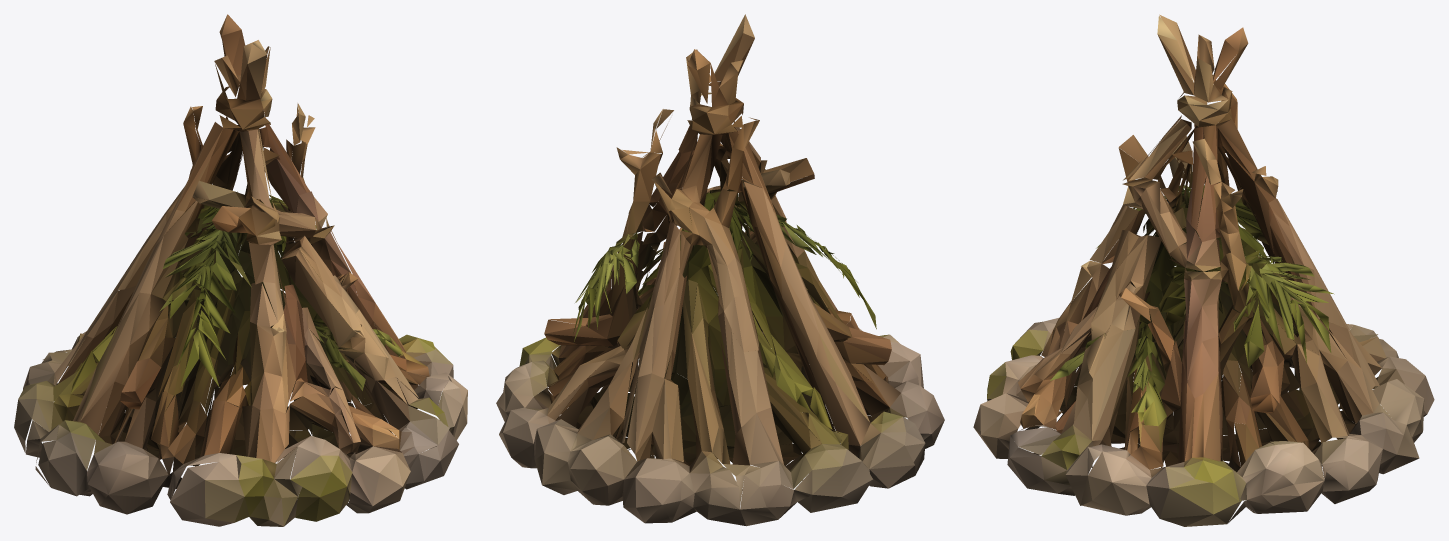
Rendered from building-beacon.glb.
3 views of the same model, side by side, from view 1: azimuth 30°, elevation 25°; view 2: azimuth 150°, elevation 25°; view 3: azimuth 270°, elevation 25° (orthographic). The views are drawn at different scales.
Parts seen in each view (by area): view 1: 0_beacon; view 2: 0_beacon; view 3: 0_beacon.
Boxes of the visible parts, x1,y1,x2,y2 form: 0_beacon: (14, 14, 467, 526); 0_beacon: (496, 14, 944, 526); 0_beacon: (973, 14, 1434, 526).
Size of the model in its own units: 1.92 by 1.91 by 1.9.
